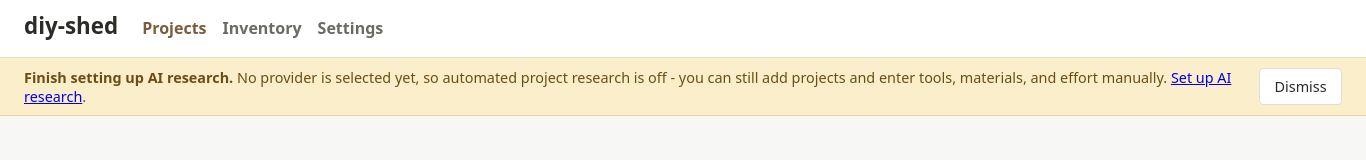
Test case: Layout › shows a dismissible setup banner when no provider is selected
Check: the message shows "Finish setting up AI research", box [24,68,233,87]
Click the button "Dismiss" at (1301,87), box [1259,68,1342,105]
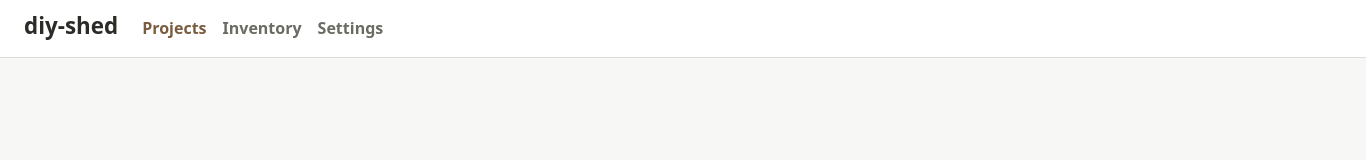
Check: the message is gone
